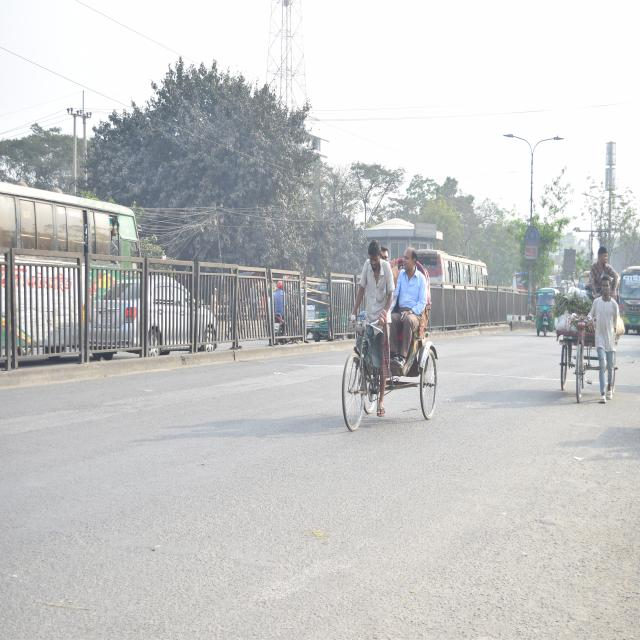bus: (0, 180, 137, 360), (421, 244, 488, 286), (615, 262, 640, 341)
car: (94, 272, 215, 358)
